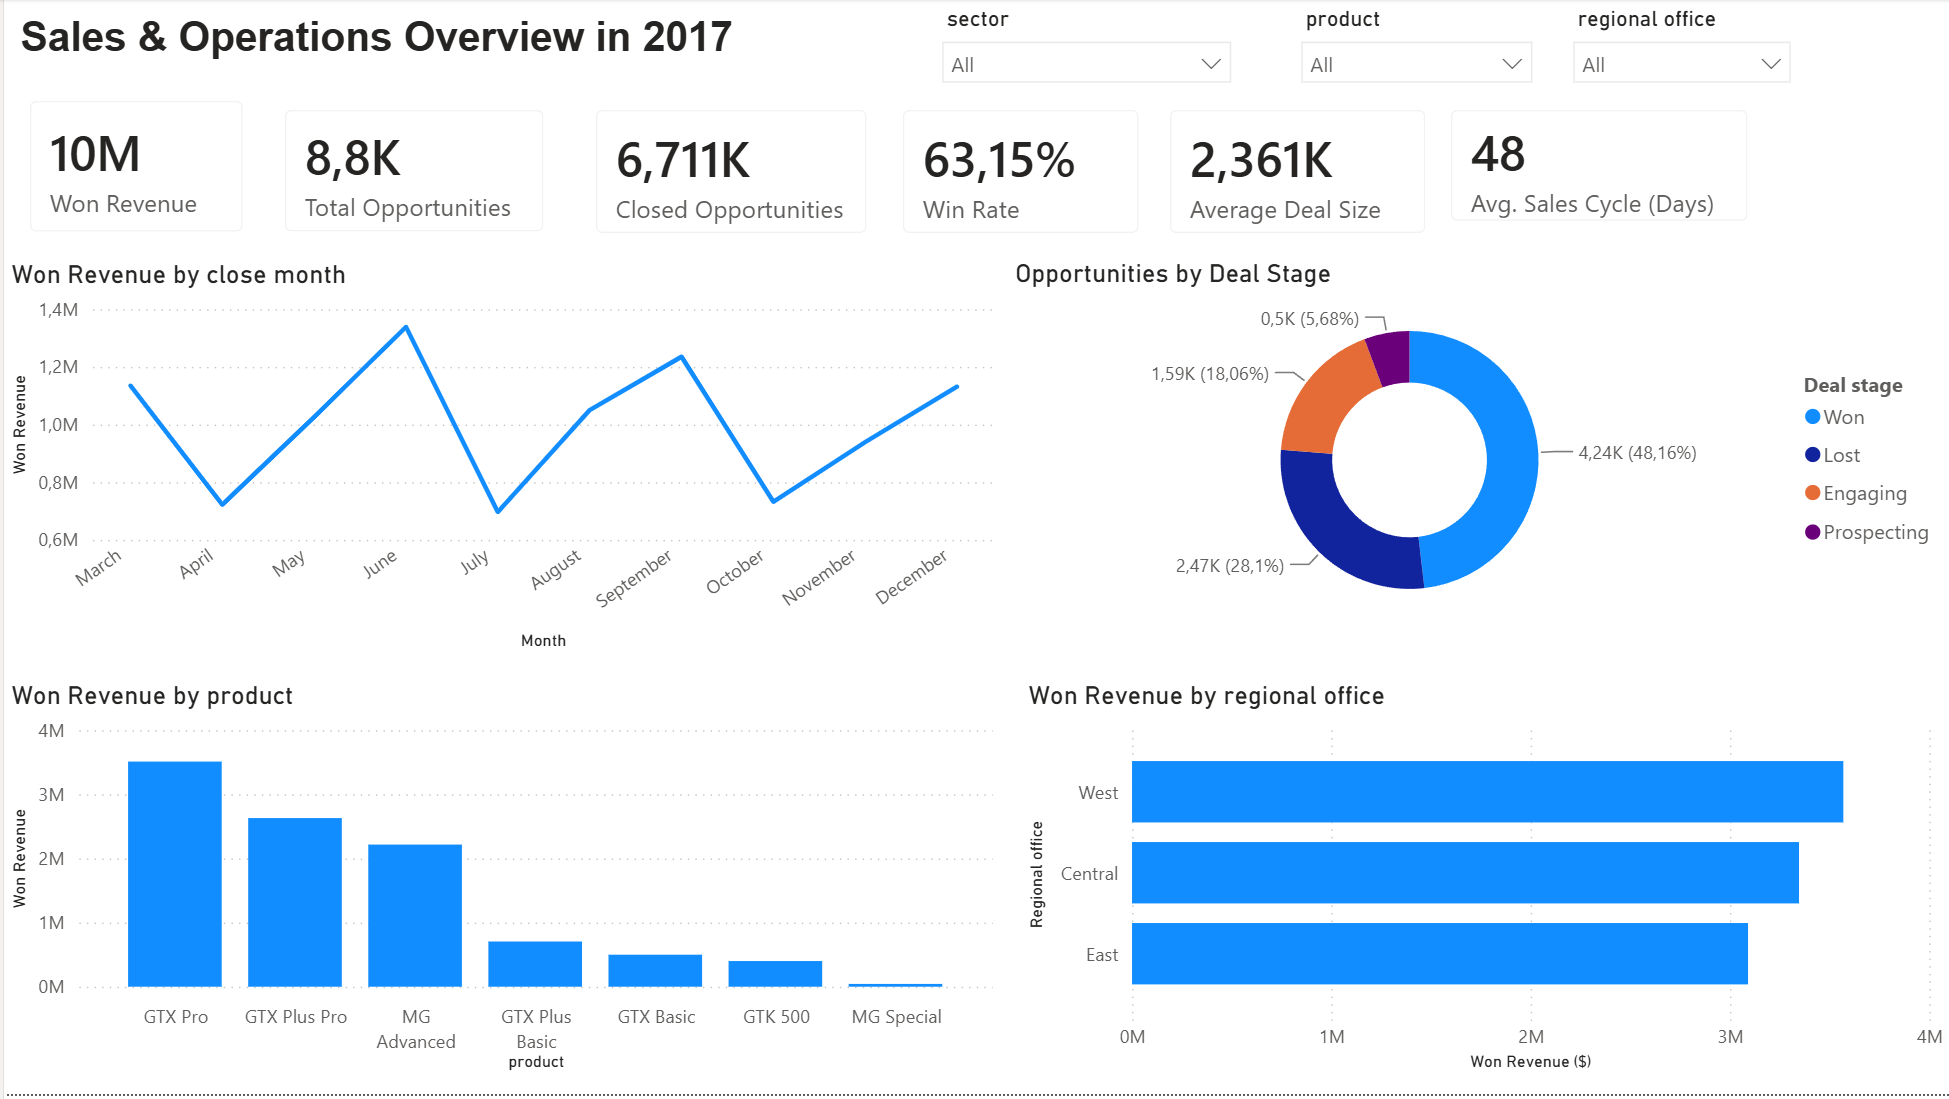

The page's visual inventory and layout, read from the dashboard file:
{"tool":"powerbi","page":{"name":"Executive Overview","canvas":[1280,720],"ordinal":0},"visuals":[{"type":"cardVisual","fields":{"Data":["sales_pipeline.Count of opportunities"]},"box":[167.5,55.6,204.8,114.5],"z":0},{"type":"cardVisual","fields":{"Data":["sales_pipeline.Closed Opportunities"]},"box":[372.4,55.6,212.7,115.2],"z":1000},{"type":"cardVisual","fields":{"Data":["sales_pipeline.Win Rate"]},"box":[573.9,55.6,189.8,115.2],"z":2000},{"type":"cardVisual","fields":{"Data":["sales_pipeline.Average Deal Size"]},"box":[749.3,55.6,202.2,115.2],"z":3000},{"type":"clusteredColumnChart","fields":{"Category":["products.product"],"Y":["sales_pipeline.Won revenue"]},"box":[0,447.8,655.1,261.6],"z":4000},{"type":"donutChart","title":"Opportunities by Deal Stage","fields":{"Category":["sales_pipeline.deal_stage"],"Y":["CountNonNull(sales_pipeline.opportunity_id)"]},"box":[660.1,170.3,619.9,246.5],"z":5000},{"type":"clusteredBarChart","title":"Won Revenue by regional office","fields":{"Y":["sales_pipeline.Won revenue"],"Category":["sales_teams.regional_office"]},"box":[668.7,447.8,611.1,261.6],"z":6000},{"type":"slicer","title":"Won Revenue by Close Month","fields":{"Values":["products.product"]},"box":[842.8,0,171.6,63.1],"z":7000},{"type":"slicer","fields":{"Values":["accounts.sector"]},"box":[606.8,0,209.7,67.1],"z":8000},{"type":"slicer","fields":{"Values":["sales_teams.regional_office"]},"box":[1021.6,0,163,63.8],"z":9000},{"type":"cardVisual","fields":{"Data":["sales_pipeline.Average Sales Cycle"]},"box":[934.2,55.9,229.4,107.8],"z":10000},{"type":"lineChart","title":"Won Revenue by close month","fields":{"Category":["sales_pipeline.close_date.Variation.Date Hierarchy.Month"],"Y":["sales_pipeline.Won revenue"]},"box":[0,170.7,655.7,261.6],"z":11000},{"type":"textbox","box":[5.9,5.2,592.2,44.5],"z":12000},{"type":"cardVisual","fields":{"Data":["sales_pipeline.Won revenue"]},"box":[0,49.7,174.7,120.4],"z":13000}]}

Visuals, with their boxes in screenshot pixels (x1, y1, x2, y2), scaled from the page's 1280x720 canvas onto the 1949x1099 screenshot:
cardVisual - sales_pipeline.Count of opportunities: (255,85,567,260)
cardVisual - sales_pipeline.Closed Opportunities: (567,85,891,261)
cardVisual - sales_pipeline.Win Rate: (874,85,1163,261)
cardVisual - sales_pipeline.Average Deal Size: (1141,85,1449,261)
clusteredColumnChart - products.product x sales_pipeline.Won revenue: (0,684,997,1083)
"Opportunities by Deal Stage" donutChart: (1005,260,1948,636)
"Won Revenue by regional office" clusteredBarChart: (1018,684,1948,1083)
"Won Revenue by Close Month" slicer: (1283,0,1545,96)
slicer - accounts.sector: (924,0,1243,102)
slicer - sales_teams.regional_office: (1556,0,1804,97)
cardVisual - sales_pipeline.Average Sales Cycle: (1422,85,1772,250)
"Won Revenue by close month" lineChart: (0,261,998,660)
textbox: (9,8,911,76)
cardVisual - sales_pipeline.Won revenue: (0,76,266,260)
